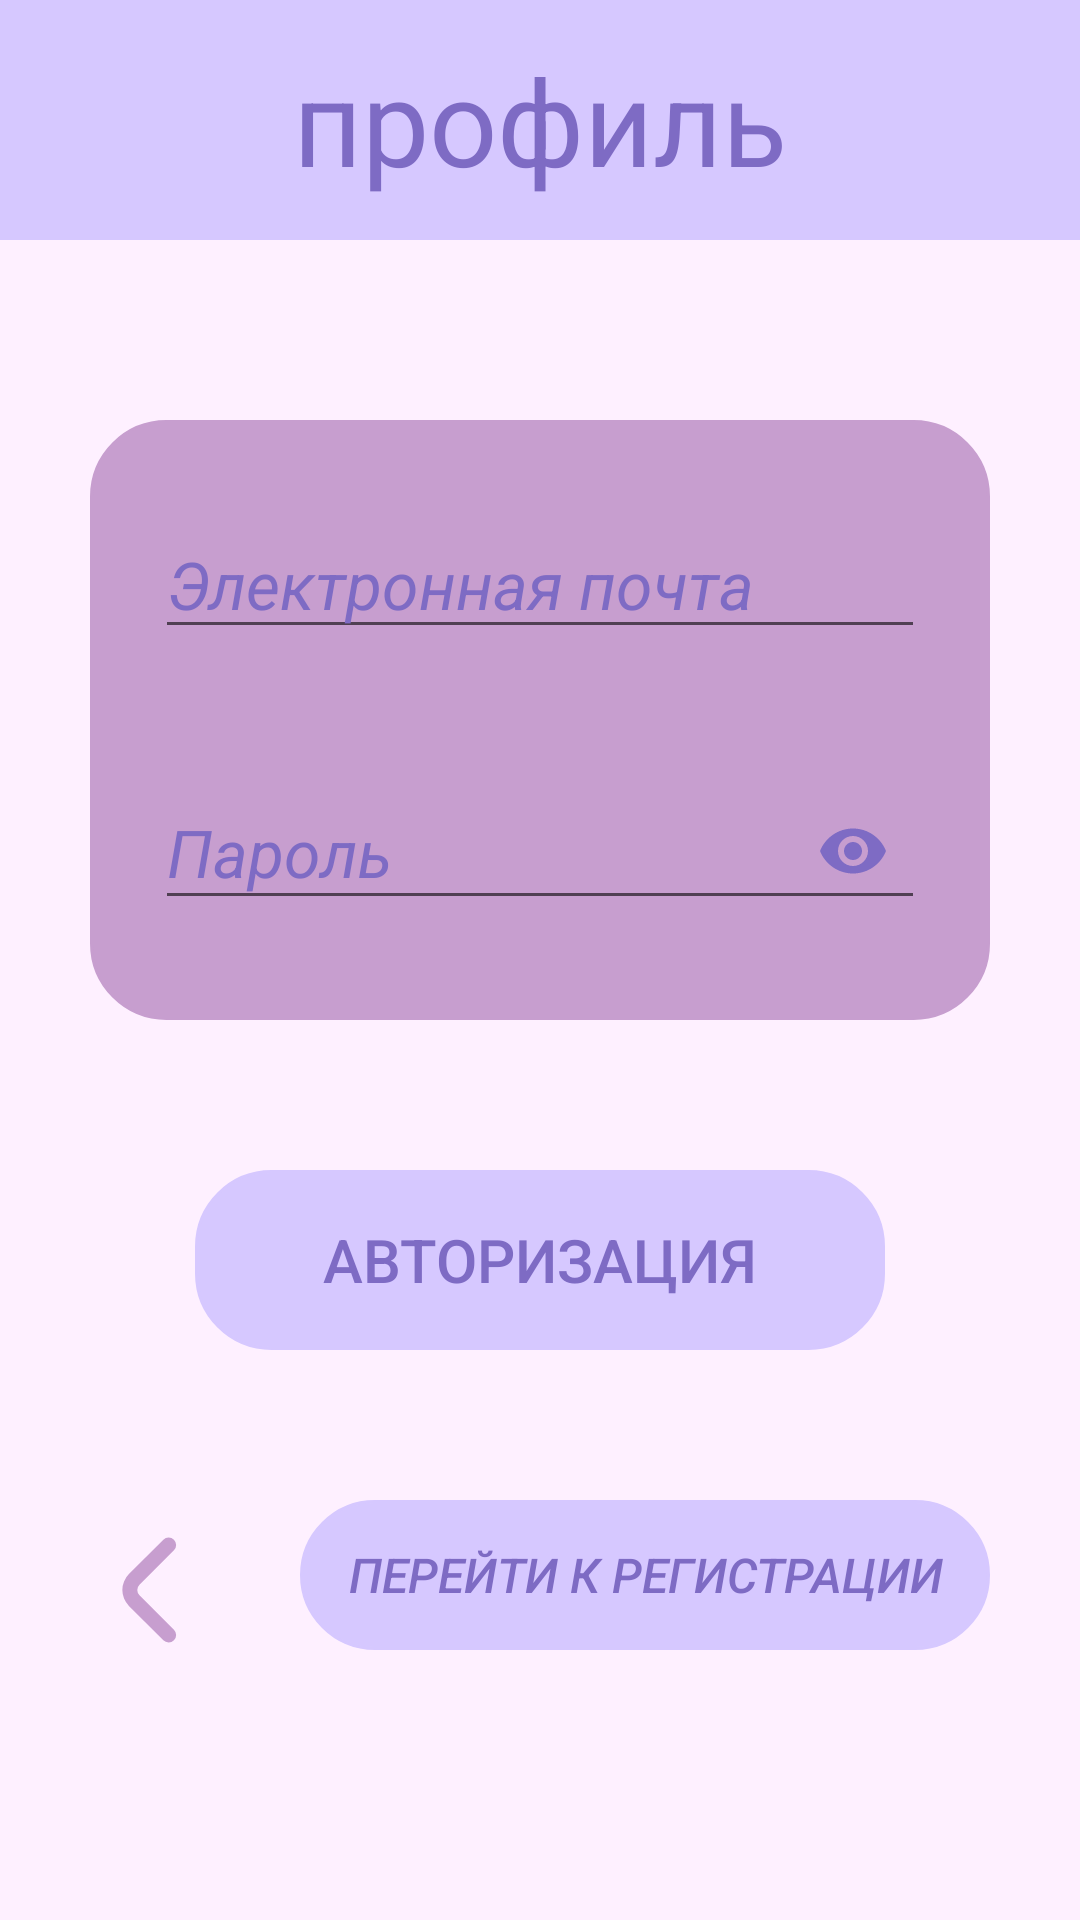

Icon click points for this 1080x1920 phone screenshot, format (x,y):
left pointer: (149,1590)
